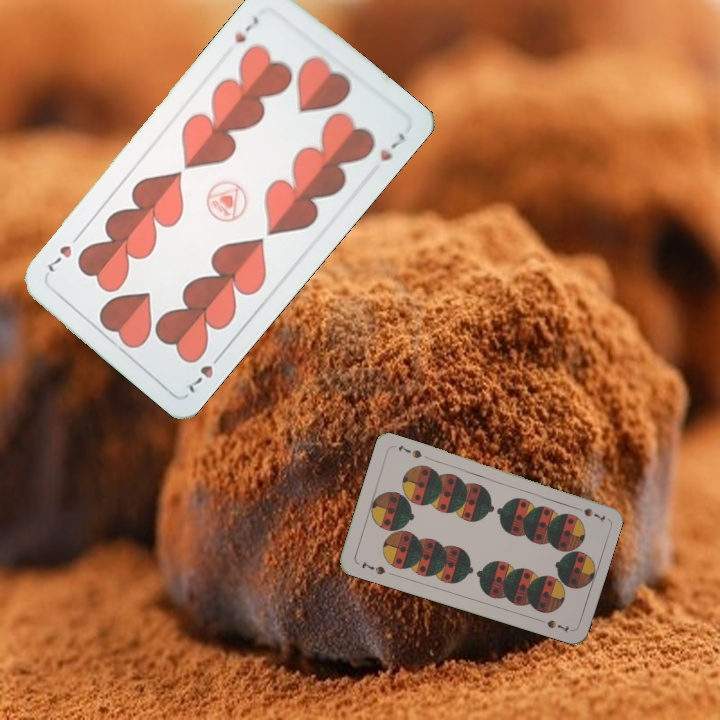H7: (184, 347, 227, 396), (230, 12, 262, 46)
S7: (568, 502, 608, 523), (357, 557, 388, 577)
